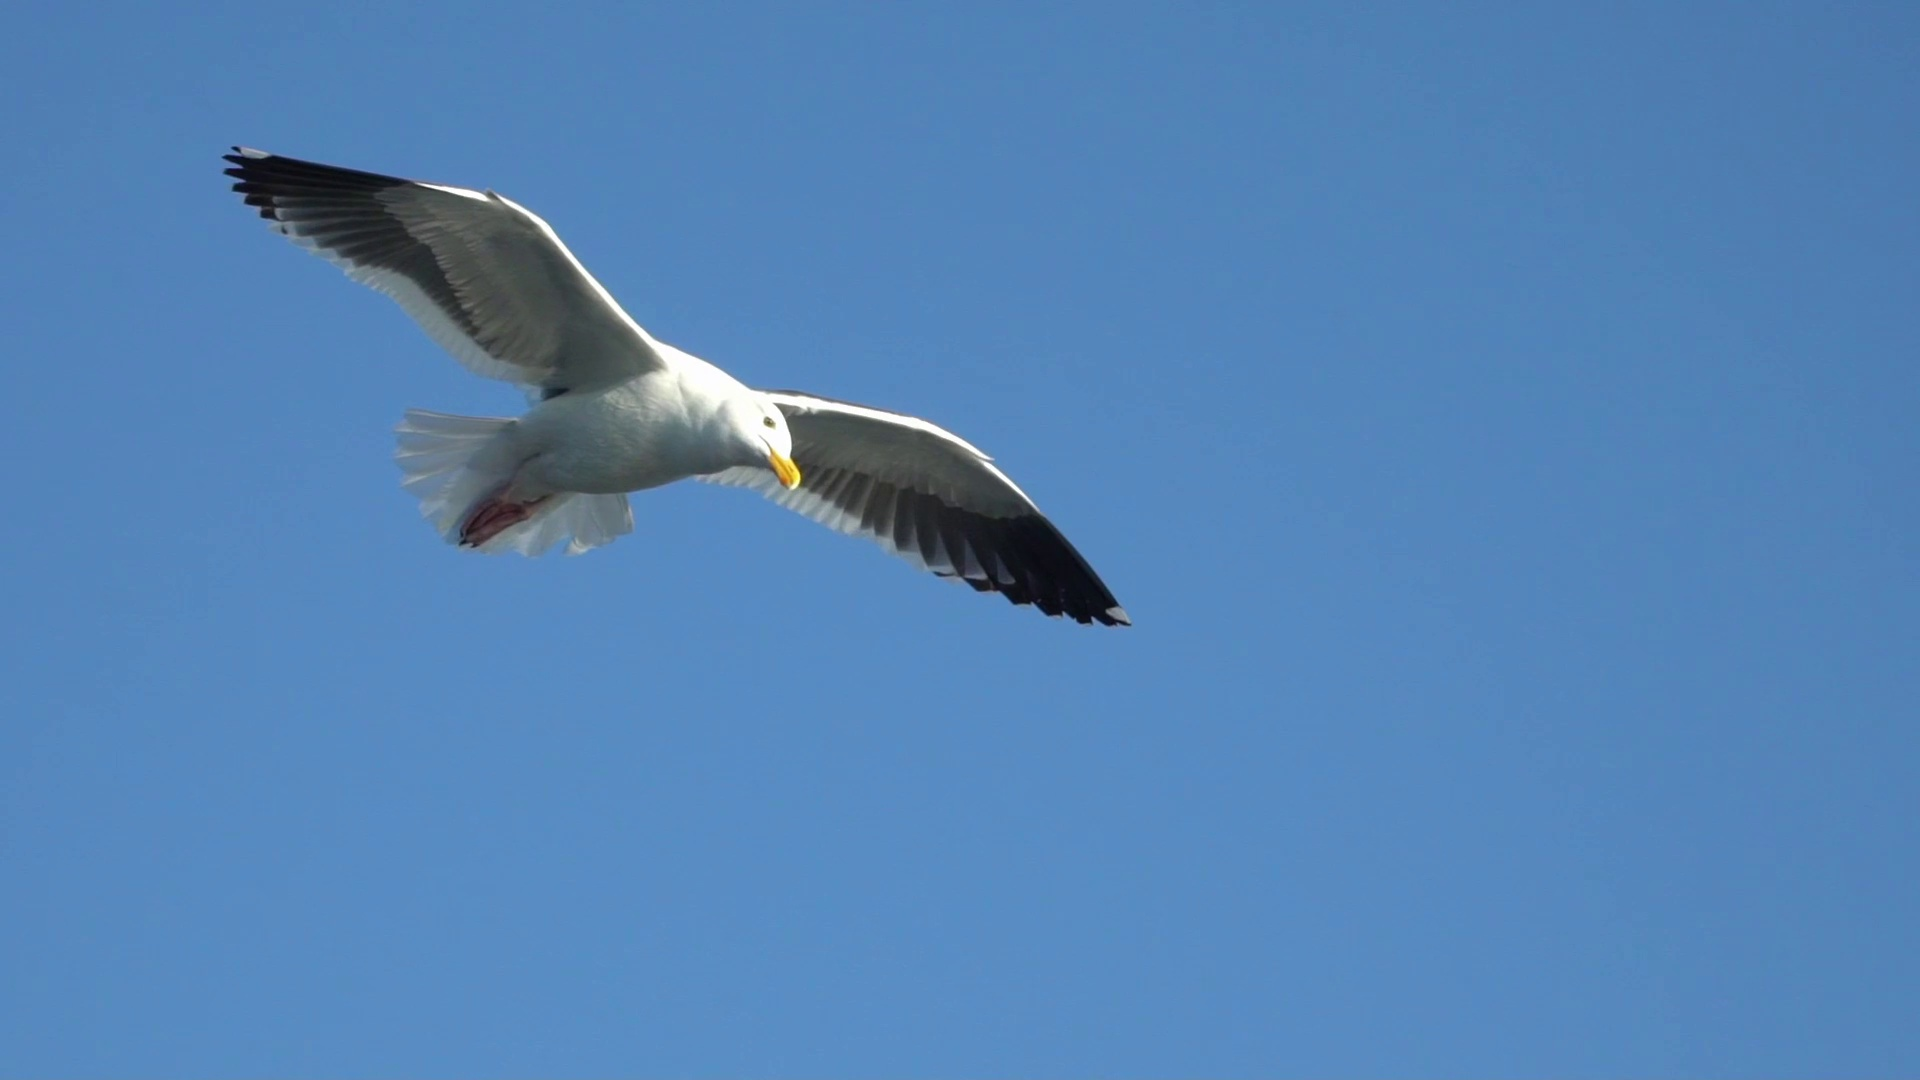bird: (222, 140, 1127, 629)
